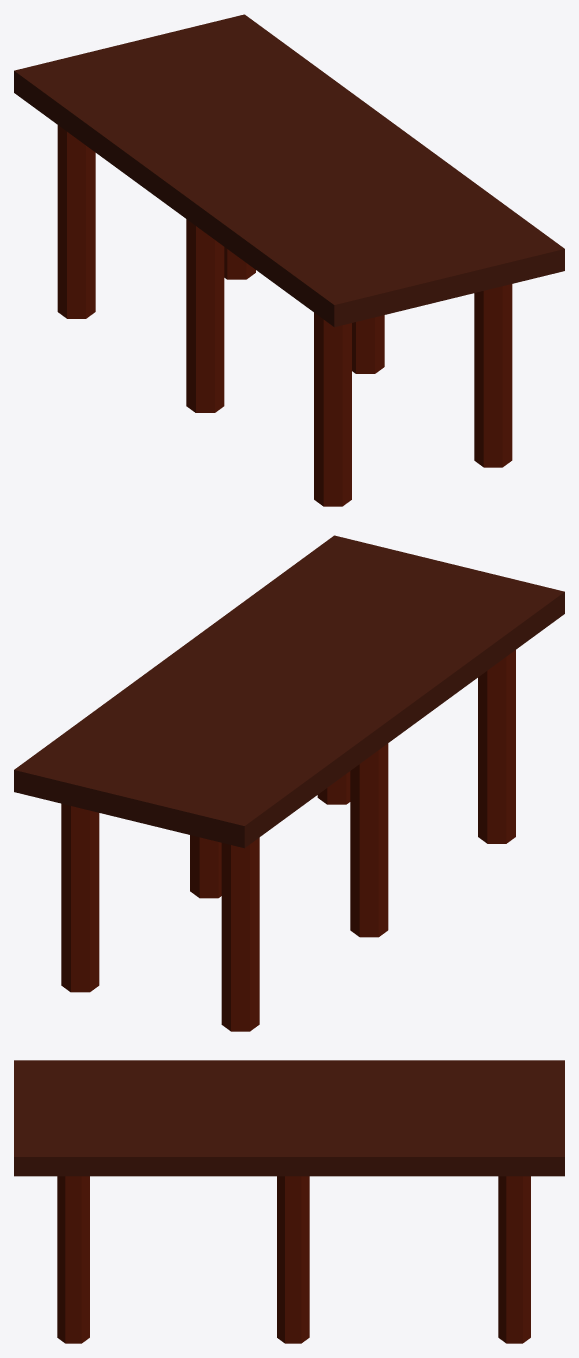
The model's file is LongTable.fbx.
The picture shows the model from 3 angles, top to bottom: view 1: azimuth 30°, elevation 25°; view 2: azimuth 150°, elevation 25°; view 3: azimuth 270°, elevation 25°; orthographic projection. The views are drawn at different scales.
Visible parts, largest first — view 1: Cube.001, Cylinder.016, Cylinder.024, Cylinder.022, Cylinder.023, Cylinder.025, Cylinder.021; view 2: Cube.001, Cylinder.016, Cylinder.021, Cylinder.024, Cylinder.022, Cylinder.025, Cylinder.023; view 3: Cube.001, Cylinder.021, Cylinder.023, Cylinder.025.
Boxes of the visible parts, x1=… form: Cube.001: x1=14, y1=14, x2=564, y2=327; Cylinder.016: x1=57, y1=125, x2=95, y2=318; Cylinder.024: x1=186, y1=219, x2=224, y2=412; Cylinder.022: x1=314, y1=312, x2=351, y2=506; Cylinder.023: x1=474, y1=284, x2=512, y2=467; Cylinder.025: x1=352, y1=315, x2=384, y2=373; Cylinder.021: x1=224, y1=247, x2=255, y2=279; Cube.001: x1=14, y1=535, x2=564, y2=848; Cylinder.016: x1=221, y1=837, x2=259, y2=1031; Cylinder.021: x1=61, y1=803, x2=99, y2=992; Cylinder.024: x1=350, y1=743, x2=388, y2=937; Cylinder.022: x1=478, y1=650, x2=515, y2=843; Cylinder.025: x1=190, y1=835, x2=221, y2=898; Cylinder.023: x1=317, y1=771, x2=350, y2=804; Cube.001: x1=14, y1=1060, x2=564, y2=1176; Cylinder.021: x1=498, y1=1176, x2=530, y2=1343; Cylinder.023: x1=57, y1=1176, x2=89, y2=1343; Cylinder.025: x1=277, y1=1176, x2=309, y2=1343.
Bounding box in the file's own units: 676 × 638 × 1625.
